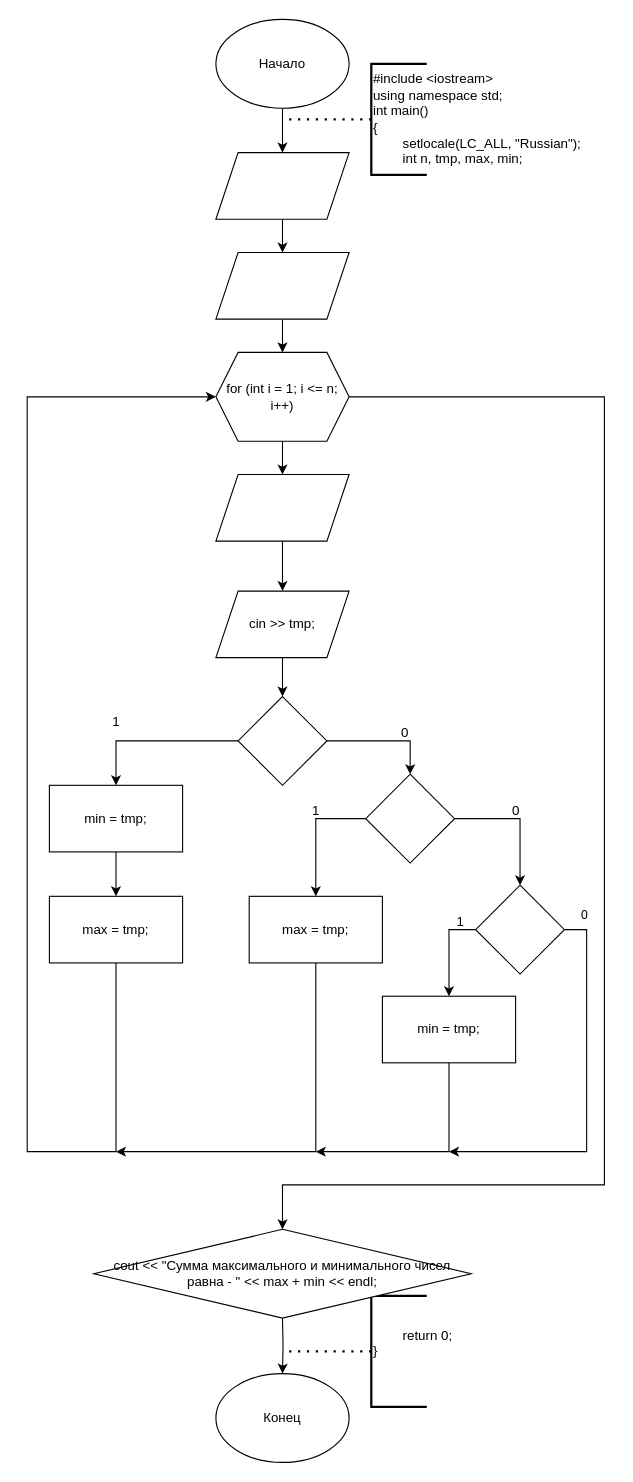
Some shapes in this 633 by 1482 pixel diagram are drawn without their labels. The box of each missing label's shape, as (x1, y1, x2, y2) in pixels:
cin >> n;: (215, 251, 349, 319)
cout << "Введите длину последовательности: \n";: (215, 152, 349, 219)
cout << "Введите следующее число: \n";: (215, 473, 349, 541)
if (i == 1): (237, 695, 327, 785)
if (tmp < min): (475, 884, 564, 974)
if (tmp > max): (365, 773, 455, 863)
